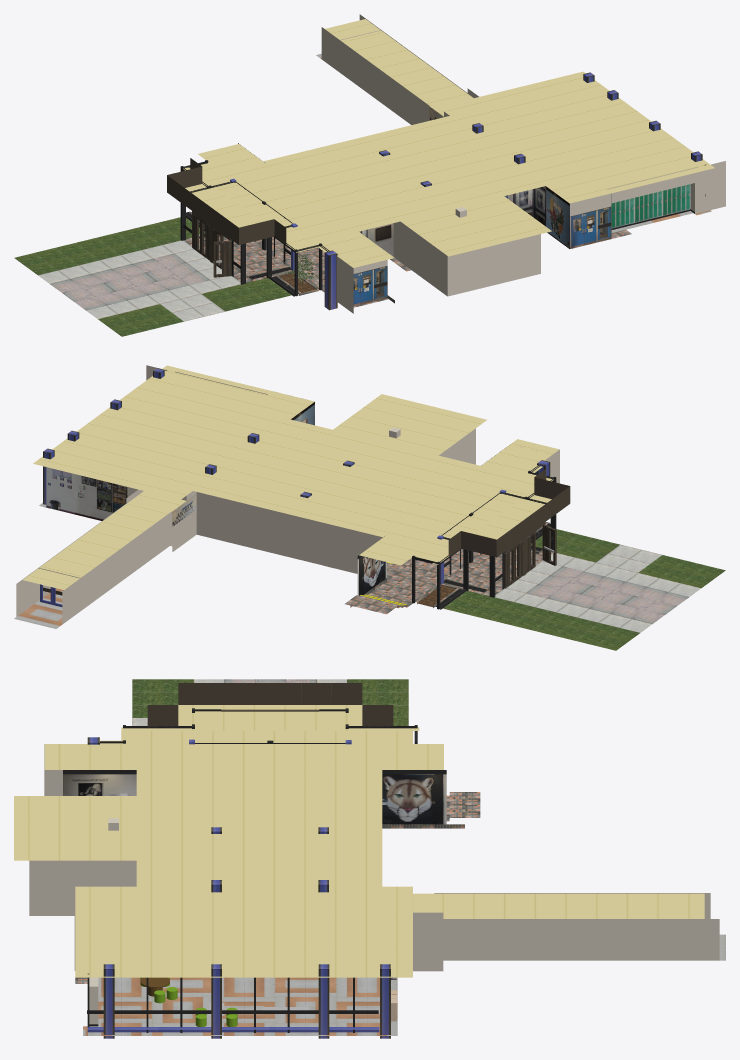
The model's file is AtriumAtlasY.obj.
3 views of the same model, one above another, from view 1: azimuth 30°, elevation 25°; view 2: azimuth 150°, elevation 25°; view 3: azimuth 270°, elevation 25° (orthographic). The views are drawn at different scales.
Bounding box in the file's own units: 56.5 × 7.05 × 46.38.
Materials: 8 (8 with a texture image).
